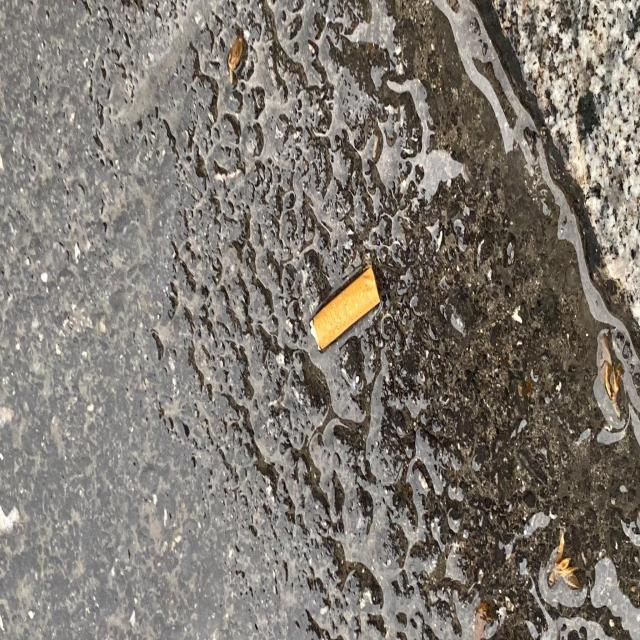other waste: (309, 266, 381, 353)
